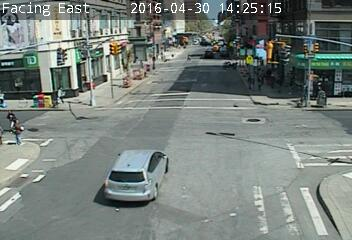neg: (287, 163, 320, 207), (95, 156, 127, 198), (116, 66, 137, 95), (257, 24, 278, 52), (57, 14, 76, 39), (158, 133, 176, 157), (103, 38, 121, 62), (105, 6, 121, 28), (97, 90, 111, 110), (215, 32, 228, 50)
